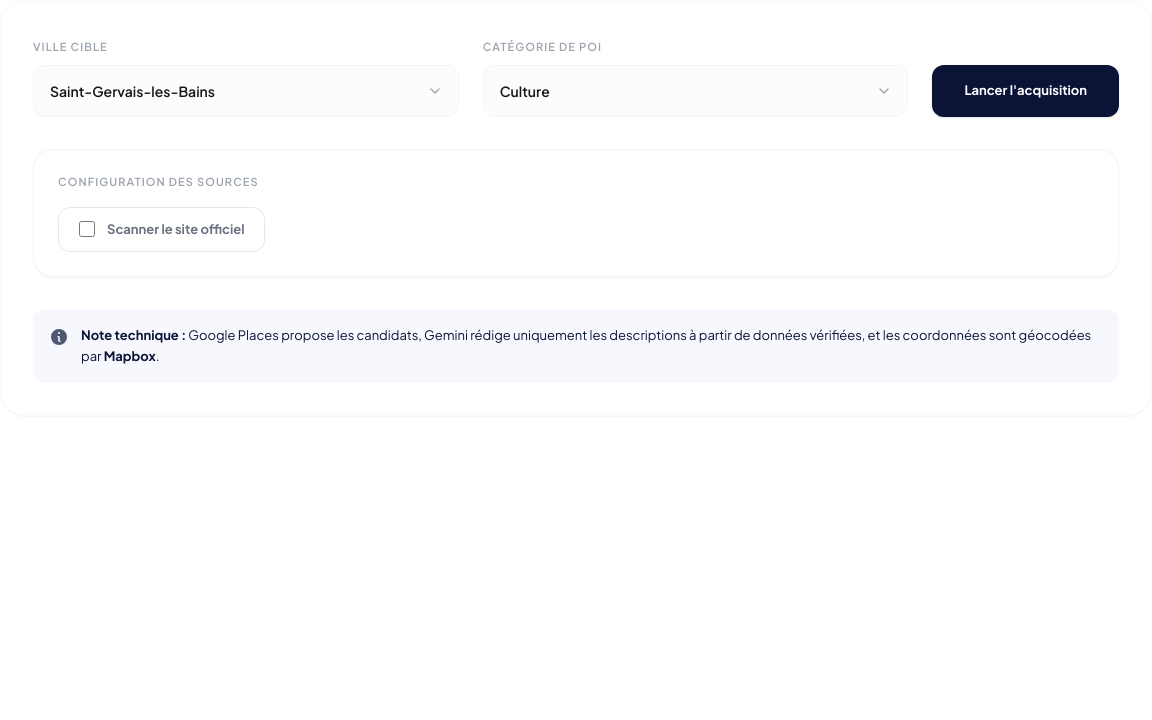
Test: 018 admin acquisition pages › AC-01-06: renders official website source checkbox and requires an URL when selected
Expected: the field labelled "URL officielle" is not shown
Click the checkbox labelled "Scanner le site officiel". click: x=87, y=229
box: [79,221,95,237]
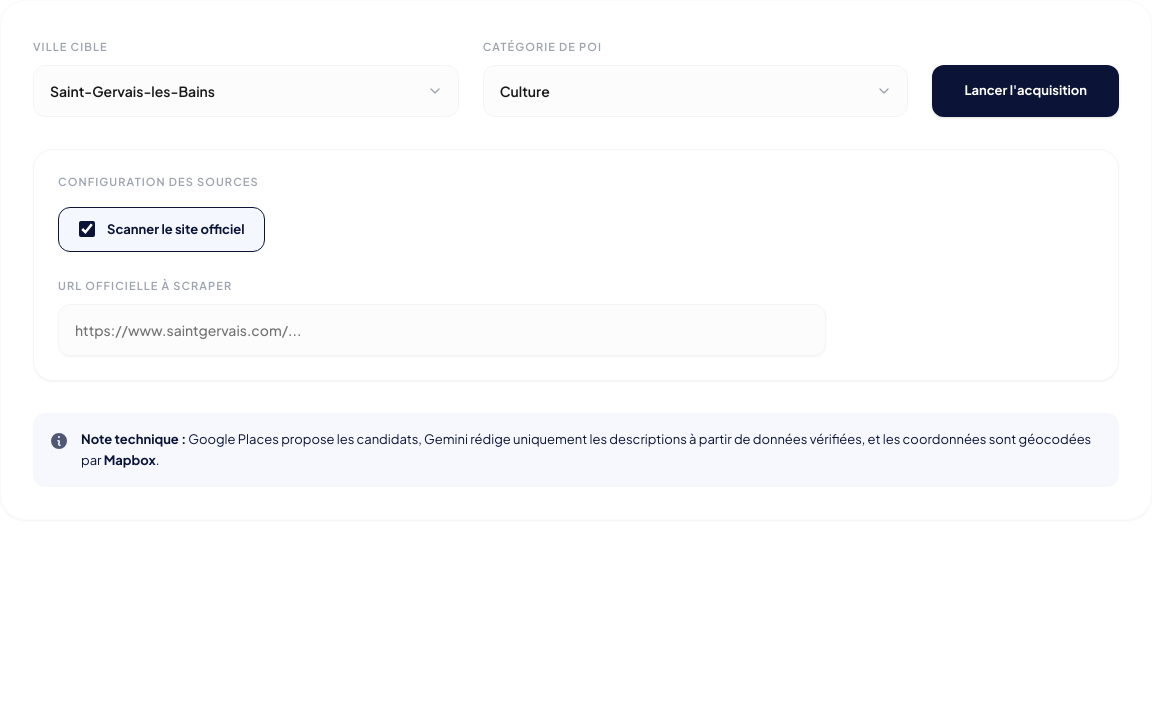
Now the field labelled "URL officielle à scraper" is shown, box [58,304,826,356]
Click the button "Lancer l'acquisition". click: x=1026, y=91
box: [932,65,1119,117]
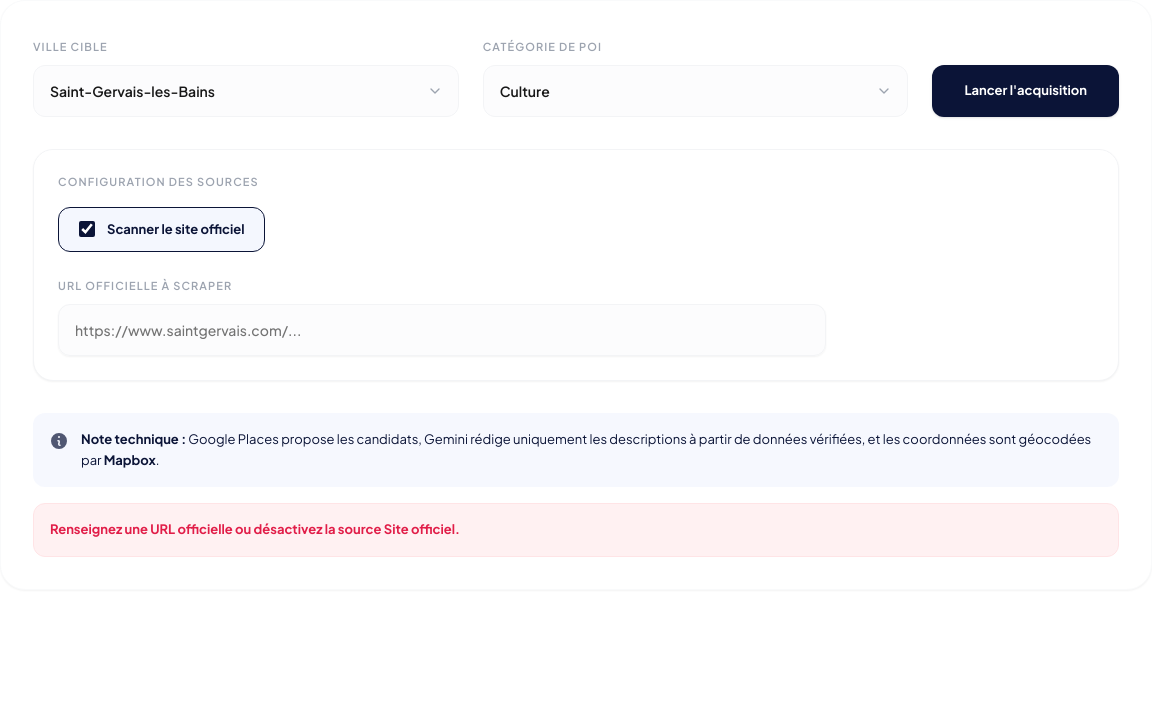
Now the text "Renseignez une URL officielle" is shown, box [50,521,460,537]
